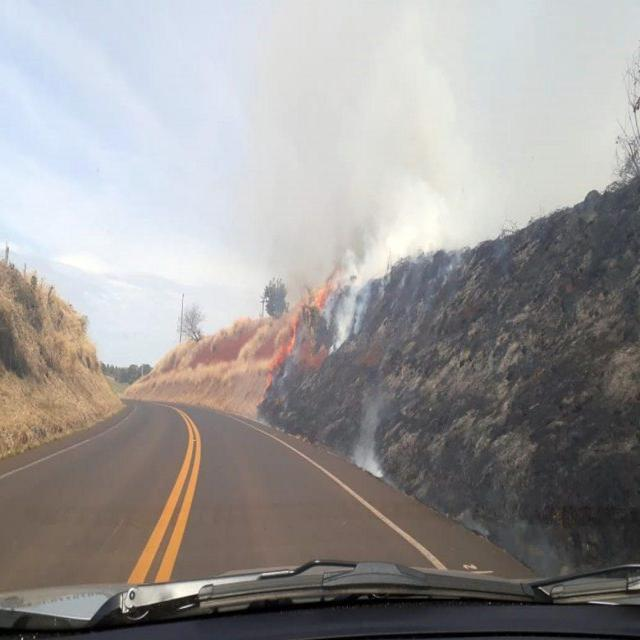Fire: (261, 281, 340, 382)
Smoke: (270, 22, 453, 258), (333, 262, 371, 352), (354, 394, 386, 477)
